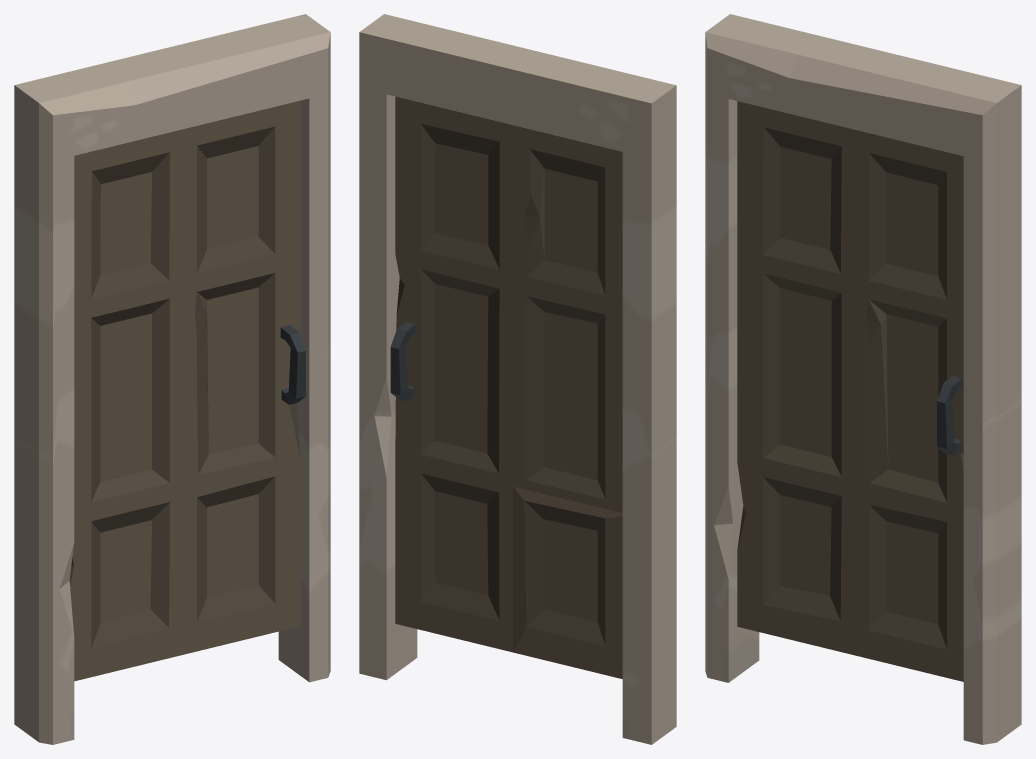
Rendered from SM_Bld_Shop_Door_05.fbx.
3 views of the same model, side by side, from view 1: azimuth 30°, elevation 25°; view 2: azimuth 150°, elevation 25°; view 3: azimuth 330°, elevation 25° (orthographic).
Parts seen in each view (by area): view 1: SM_Bld_Shop_Door_05_Door, SM_Bld_Shop_Door_05; view 2: SM_Bld_Shop_Door_05_Door, SM_Bld_Shop_Door_05; view 3: SM_Bld_Shop_Door_05_Door, SM_Bld_Shop_Door_05.
Part boxes in pixels (x1,y1,x2,y2): SM_Bld_Shop_Door_05_Door: (69,100,305,681); SM_Bld_Shop_Door_05: (14,14,330,744); SM_Bld_Shop_Door_05_Door: (390,96,622,678); SM_Bld_Shop_Door_05: (359,14,676,744); SM_Bld_Shop_Door_05_Door: (737,101,963,681); SM_Bld_Shop_Door_05: (705,14,1021,744).
Bounding box in the file's own units: 127 × 266 × 34.19.
